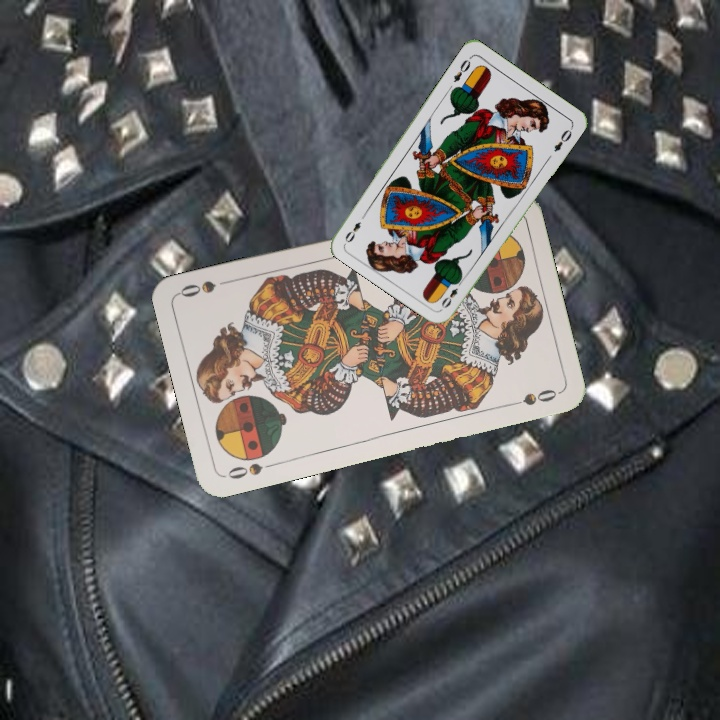EO: (437, 275, 466, 311), (449, 55, 473, 85)
SO: (221, 458, 279, 482)
